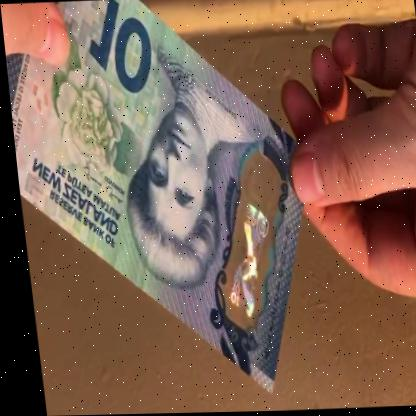10B: (209, 202, 276, 320)
